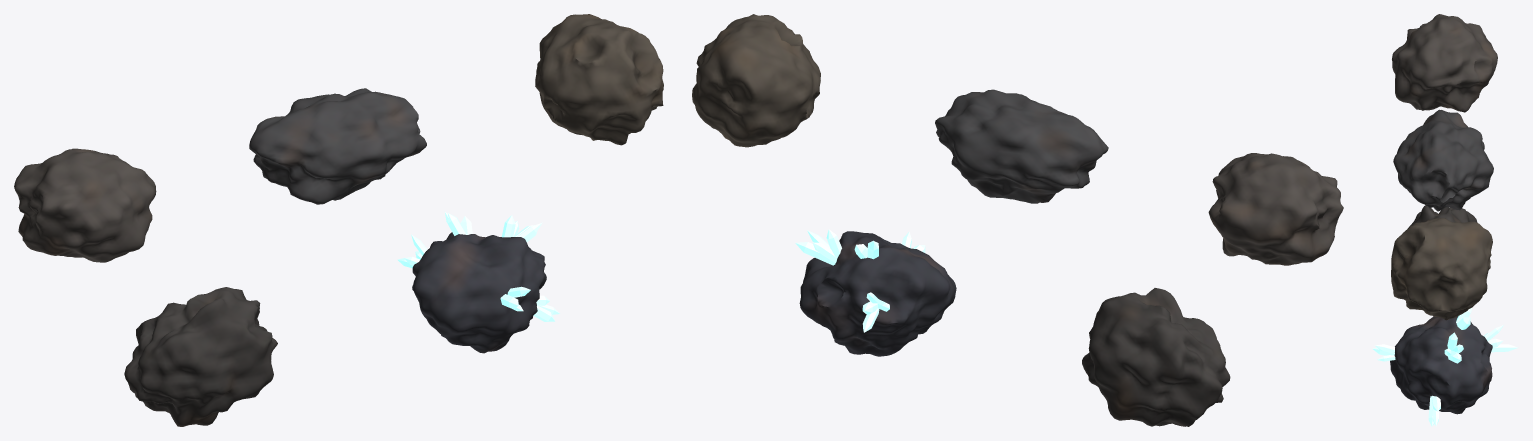
Rendered from asteroid_set.glb.
3 renders of one model, left to right at view 1: azimuth 30°, elevation 25°; view 2: azimuth 150°, elevation 25°; view 3: azimuth 270°, elevation 25°, orthographic. The views are drawn at different scales.
Parts seen in each view (by area): view 1: Asteroid.D.Rock, Asteroid.B.Rock, Asteroid.C.Rock, Asteroid.A.Rock, Asteroid.Crystal.Rock, Asteroid.Crystal.Crystal; view 2: Asteroid.D.Rock, Asteroid.B.Rock, Asteroid.C.Rock, Asteroid.Crystal.Rock, Asteroid.A.Rock, Asteroid.Crystal.Crystal; view 3: Asteroid.C.Rock, Asteroid.A.Rock, Asteroid.Crystal.Rock, Asteroid.B.Rock, Asteroid.Crystal.Crystal, Asteroid.D.Rock.
Part boxes in pixels (x1,y1,x2,y2): Asteroid.D.Rock: [124, 287, 277, 426]; Asteroid.B.Rock: [249, 88, 426, 204]; Asteroid.C.Rock: [535, 14, 663, 145]; Asteroid.A.Rock: [14, 148, 156, 262]; Asteroid.Crystal.Rock: [412, 232, 546, 353]; Asteroid.Crystal.Crystal: [397, 212, 559, 321]; Asteroid.D.Rock: [1082, 288, 1230, 426]; Asteroid.B.Rock: [935, 89, 1108, 203]; Asteroid.C.Rock: [692, 14, 820, 147]; Asteroid.Crystal.Rock: [799, 231, 956, 356]; Asteroid.A.Rock: [1208, 153, 1343, 265]; Asteroid.Crystal.Crystal: [795, 229, 925, 332]; Asteroid.C.Rock: [1391, 218, 1492, 320]; Asteroid.A.Rock: [1392, 14, 1497, 112]; Asteroid.Crystal.Rock: [1390, 316, 1492, 414]; Asteroid.B.Rock: [1393, 109, 1493, 211]; Asteroid.Crystal.Crystal: [1372, 308, 1518, 426]; Asteroid.D.Rock: [1407, 205, 1477, 228].
Size of the model in its own units: 10.94 by 5.03 by 2.75.
